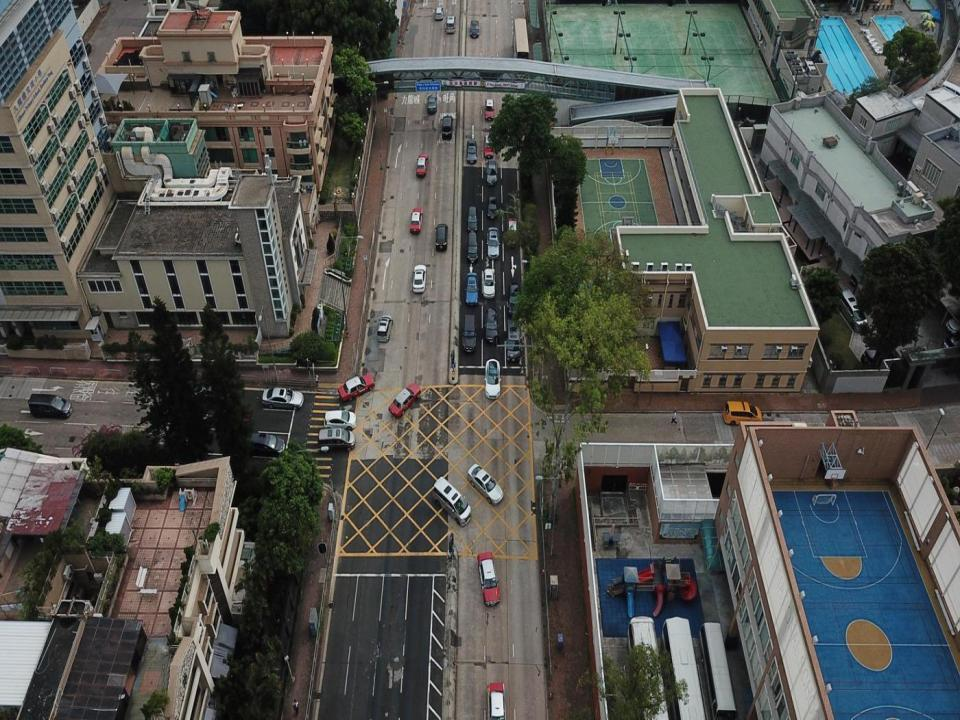bus: (662, 616, 706, 719), (628, 615, 671, 719), (700, 620, 738, 719), (513, 17, 530, 70)
car: (468, 463, 506, 506), (478, 551, 501, 606), (388, 384, 421, 417), (723, 401, 762, 427), (261, 387, 304, 408), (337, 376, 376, 397), (323, 410, 356, 433), (487, 682, 505, 719), (485, 358, 500, 399), (411, 262, 428, 294), (485, 306, 498, 340), (466, 272, 479, 304), (377, 314, 391, 343), (486, 226, 499, 256), (483, 268, 495, 298), (507, 215, 518, 246), (415, 153, 428, 177), (410, 207, 422, 232), (467, 206, 479, 231), (486, 160, 498, 184), (487, 193, 498, 218), (484, 98, 495, 120), (466, 140, 476, 164), (444, 14, 456, 34), (426, 94, 437, 114), (484, 134, 493, 157), (470, 19, 479, 38), (434, 6, 444, 19)
van: (434, 476, 472, 526), (28, 393, 72, 418), (242, 433, 285, 454), (318, 429, 355, 450), (506, 318, 522, 362), (462, 314, 478, 354), (508, 283, 521, 316), (467, 231, 479, 264), (436, 223, 448, 253), (441, 114, 452, 139)
